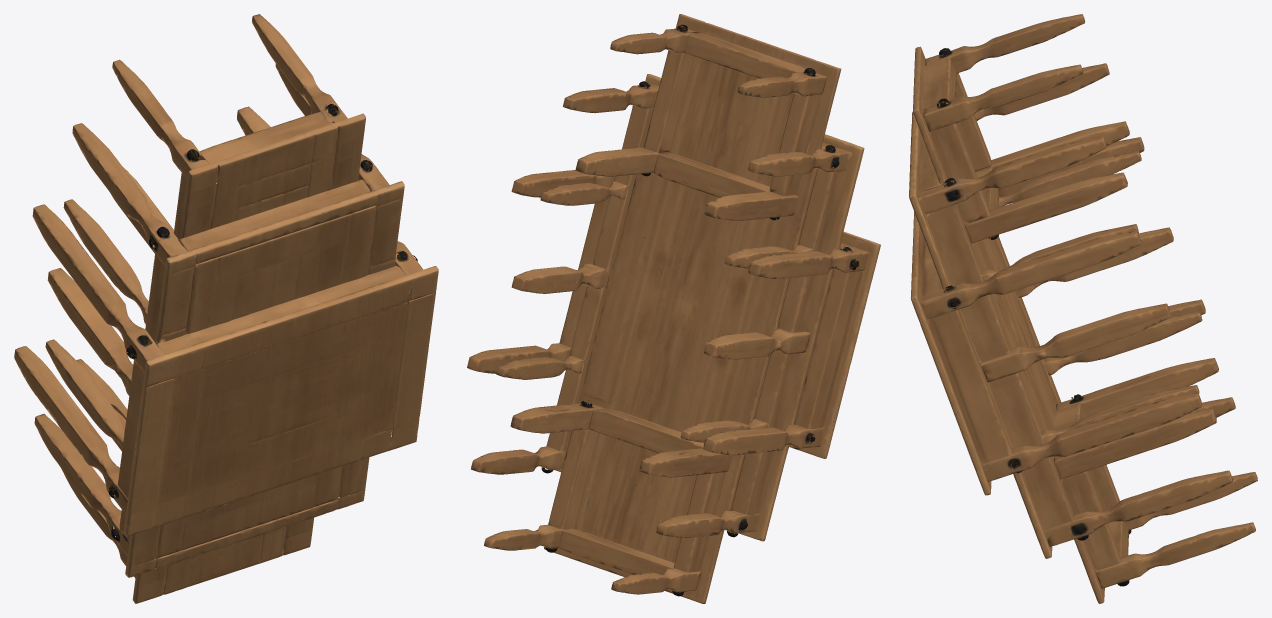
The model's file is trellis2.glb.
The picture shows the model from 3 angles, left to right: view 1: azimuth 30°, elevation 25°; view 2: azimuth 150°, elevation 25°; view 3: azimuth 270°, elevation 25°; orthographic projection. The views are drawn at different scales.
Visible parts, largest first — view 1: world; view 2: world; view 3: world.
Part boxes in pixels (left/top/right/bottom): world: left=14, top=14, right=438, bottom=603; world: left=467, top=14, right=880, bottom=603; world: left=909, top=14, right=1257, bottom=603.
Size of the model in its own units: 0.5845 by 1.04 by 0.6272.
Materials: 1 (1 with a texture image).
